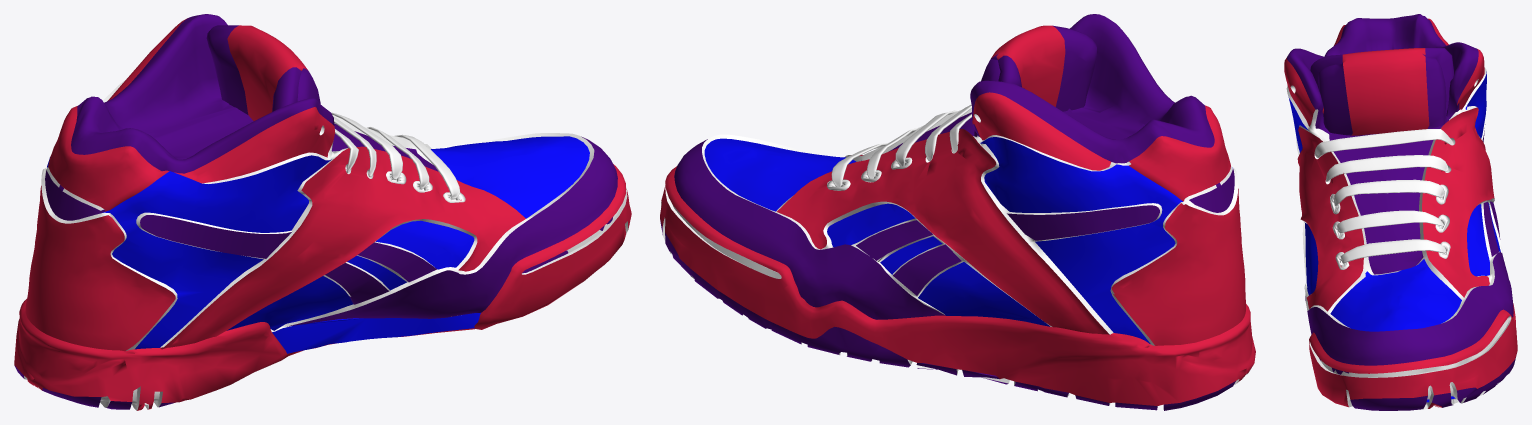
Rendered from shoe1-right.dae.
3 views of the same model, side by side, from view 1: azimuth 30°, elevation 25°; view 2: azimuth 150°, elevation 25°; view 3: azimuth 270°, elevation 25° (orthographic). The views are drawn at different scales.
Parts seen in each view (by area): view 1: white1 (×4), white2 (×5), sole, black (×2), white3 (×2), plastic1 (×4), edges (×2), inshoe, tag, laces (×3); view 2: white1 (×4), sole, white2 (×5), black (×2), white3, plastic1 (×4), edges (×2), tag, bblack, thread, laces; view 3: white1 (×4), white3 (×2), white2 (×5), sole, laces (×5), black (×2), tag, white, edges, bblack (×3), thread, plastic1 (+1 smaller).
Boxes of the visible parts, x1=… form: white1 (×4): x1=25, y1=106, x2=525, y2=351; white2 (×5): x1=102, y1=136, x2=589, y2=349; sole: x1=14, y1=164, x2=631, y2=410; black (×2): x1=71, y1=14, x2=334, y2=173; white3 (×2): x1=287, y1=123, x2=617, y2=326; plastic1 (×4): x1=45, y1=170, x2=436, y2=304; edges (×2): x1=41, y1=79, x2=594, y2=350; inshoe: x1=272, y1=312, x2=480, y2=353; tag: x1=227, y1=25, x2=308, y2=120; laces (×3): x1=331, y1=112, x2=460, y2=199; white1 (×4): x1=777, y1=92, x2=1245, y2=345; sole: x1=660, y1=166, x2=1255, y2=405; white2 (×5): x1=704, y1=137, x2=1182, y2=343; black (×2): x1=970, y1=14, x2=1214, y2=163; white3: x1=674, y1=139, x2=945, y2=319; plastic1 (×4): x1=856, y1=169, x2=1234, y2=295; edges (×2): x1=702, y1=108, x2=1238, y2=345; tag: x1=991, y1=25, x2=1065, y2=106; bblack: x1=665, y1=232, x2=910, y2=367; thread: x1=672, y1=204, x2=781, y2=278; laces: x1=895, y1=110, x2=956, y2=166; white1 (×4): x1=1284, y1=49, x2=1494, y2=311; white3 (×2): x1=1305, y1=126, x2=1513, y2=374; white2 (×5): x1=1288, y1=71, x2=1489, y2=331; sole: x1=1309, y1=303, x2=1517, y2=407; laces (×5): x1=1314, y1=129, x2=1453, y2=263; black (×2): x1=1287, y1=14, x2=1478, y2=134; tag: x1=1342, y1=48, x2=1429, y2=135; white: x1=1318, y1=57, x2=1446, y2=135; edges: x1=1286, y1=68, x2=1502, y2=327; bblack (×3): x1=1350, y1=356, x2=1516, y2=410; thread: x1=1321, y1=318, x2=1508, y2=377; plastic1: x1=1483, y1=201, x2=1498, y2=256.
Size of the model in its own units: 11.93 by 4.93 by 6.
